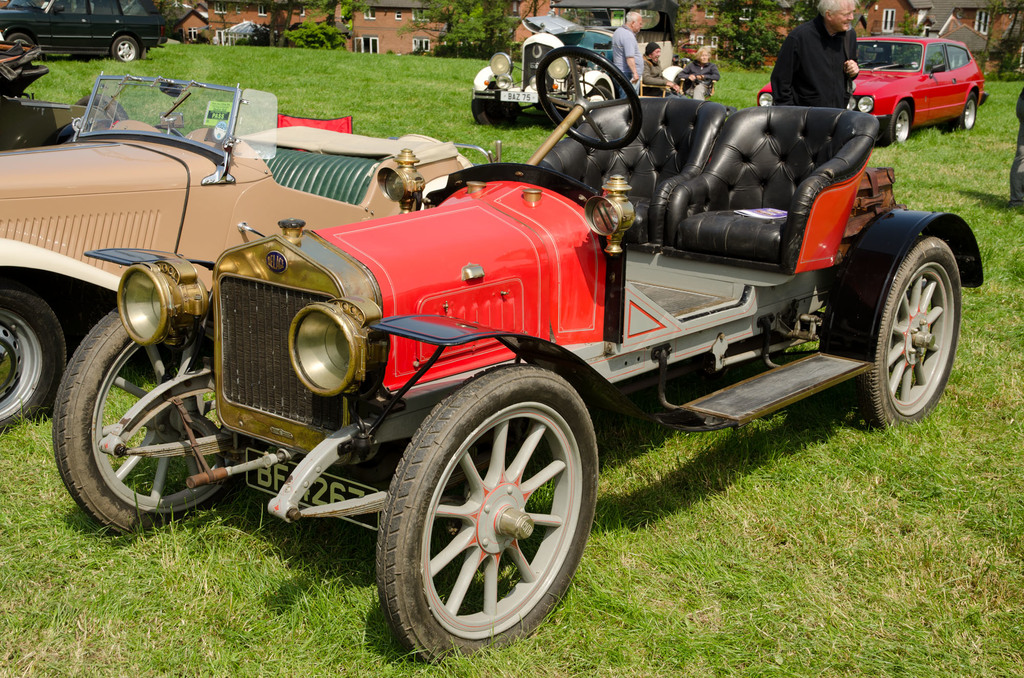Car: (0, 0, 984, 667)
